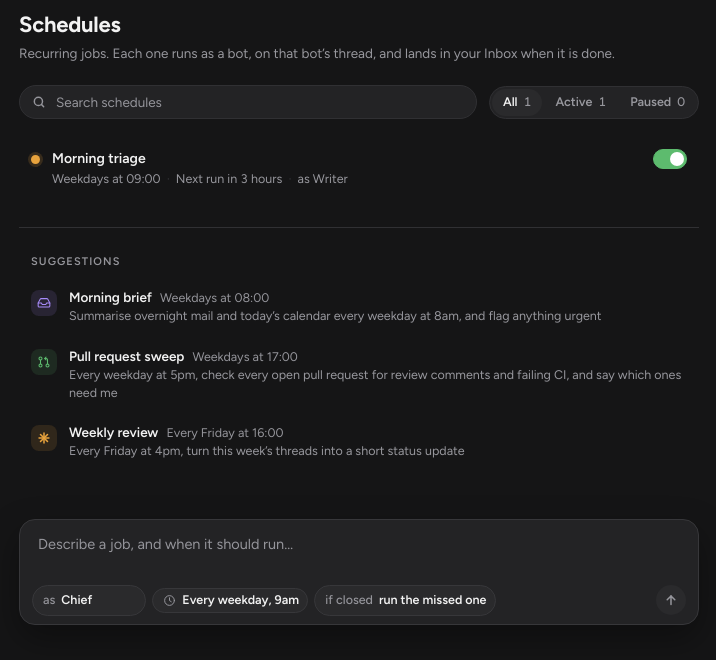
Scenario: SchedulesView › says out loud when a run was caught up and how many were dropped
The image size is (716, 660).
Click the button that starts with "Morning triage": click(332, 168) [19,136,645,202]
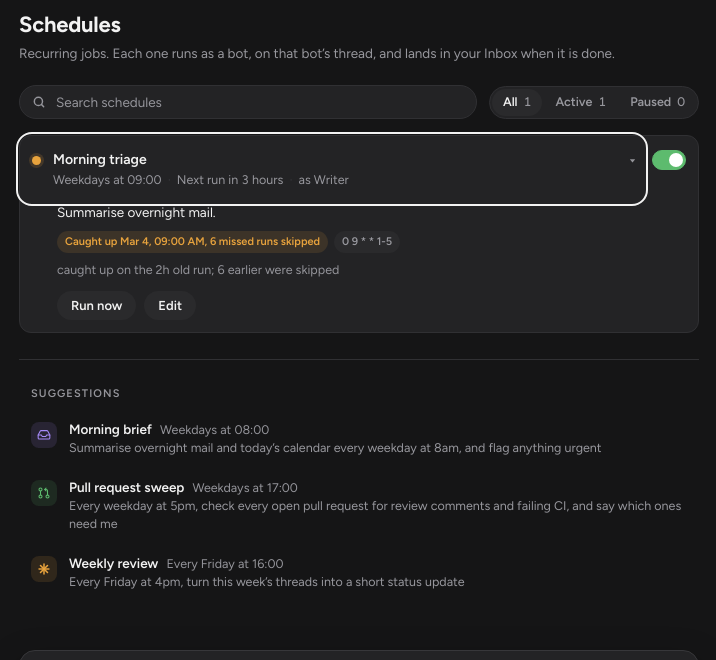
Check: the text "Caught up Mar 4, 09:00 AM, 6 missed runs skipped" is shown, box [57,231,328,253]
Check: the text "caught up on the 2h old run; 6 earlier were skipped" is shown, box [57,262,339,277]
